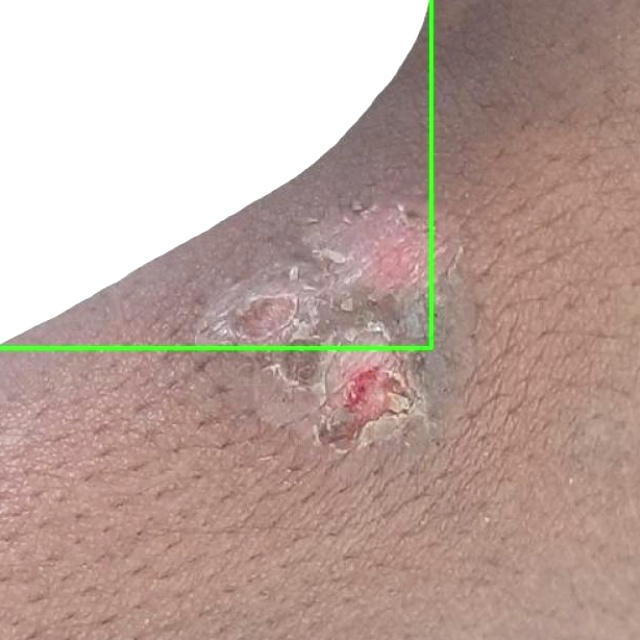Contact Dermatitis: (0, 0, 431, 348)
